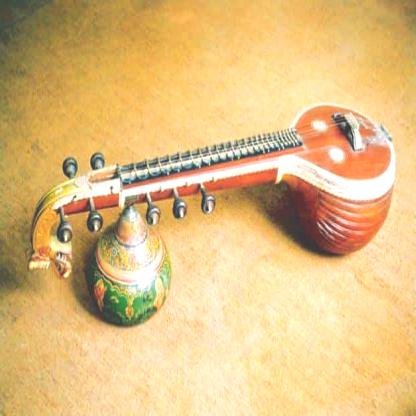Veena: (36, 96, 398, 215)
